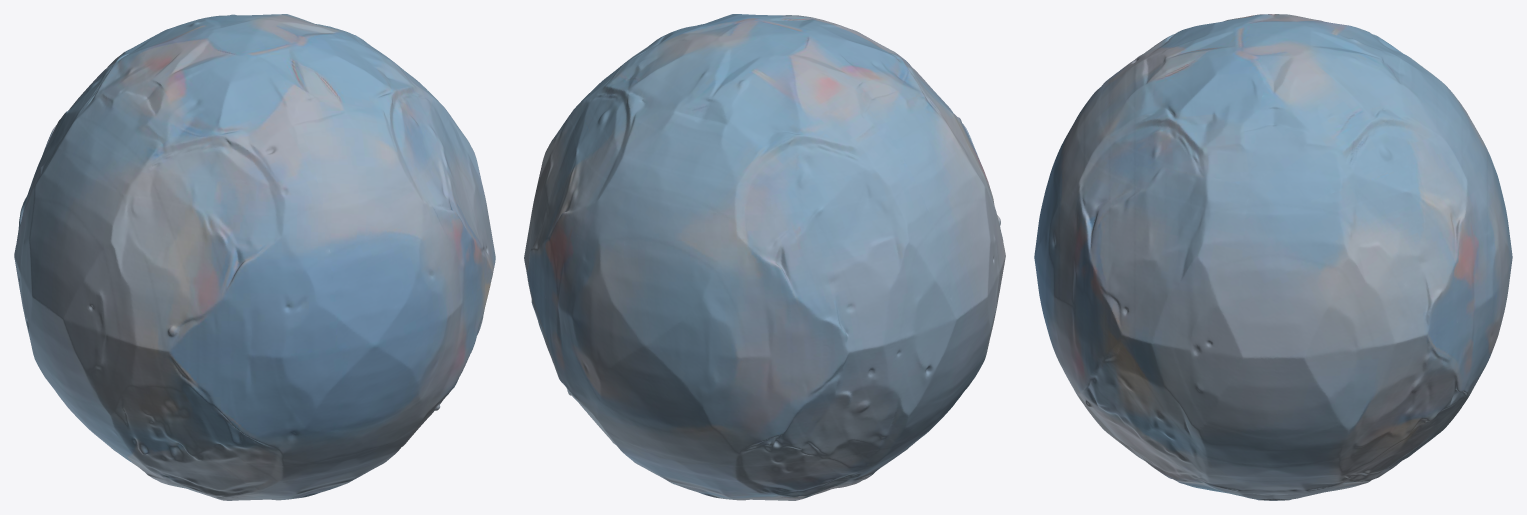
Rendered from detailed_realistic_model_crystalball_12.glb.
The picture shows the model from 3 angles, left to right: view 1: azimuth 30°, elevation 25°; view 2: azimuth 150°, elevation 25°; view 3: azimuth 270°, elevation 25°; orthographic projection.
Parts seen in each view (by area): view 1: tripo_node_82c7788e-ccd3-4598-ae73-77ed8524645d; view 2: tripo_node_82c7788e-ccd3-4598-ae73-77ed8524645d; view 3: tripo_node_82c7788e-ccd3-4598-ae73-77ed8524645d.
Part boxes in pixels (<box>): tripo_node_82c7788e-ccd3-4598-ae73-77ed8524645d: <box>14,14,495,500</box>; tripo_node_82c7788e-ccd3-4598-ae73-77ed8524645d: <box>524,14,1005,500</box>; tripo_node_82c7788e-ccd3-4598-ae73-77ed8524645d: <box>1034,14,1512,500</box>.
Size of the model in its own units: 0.9752 by 1 by 0.9786.
1 material, 1 textured.
